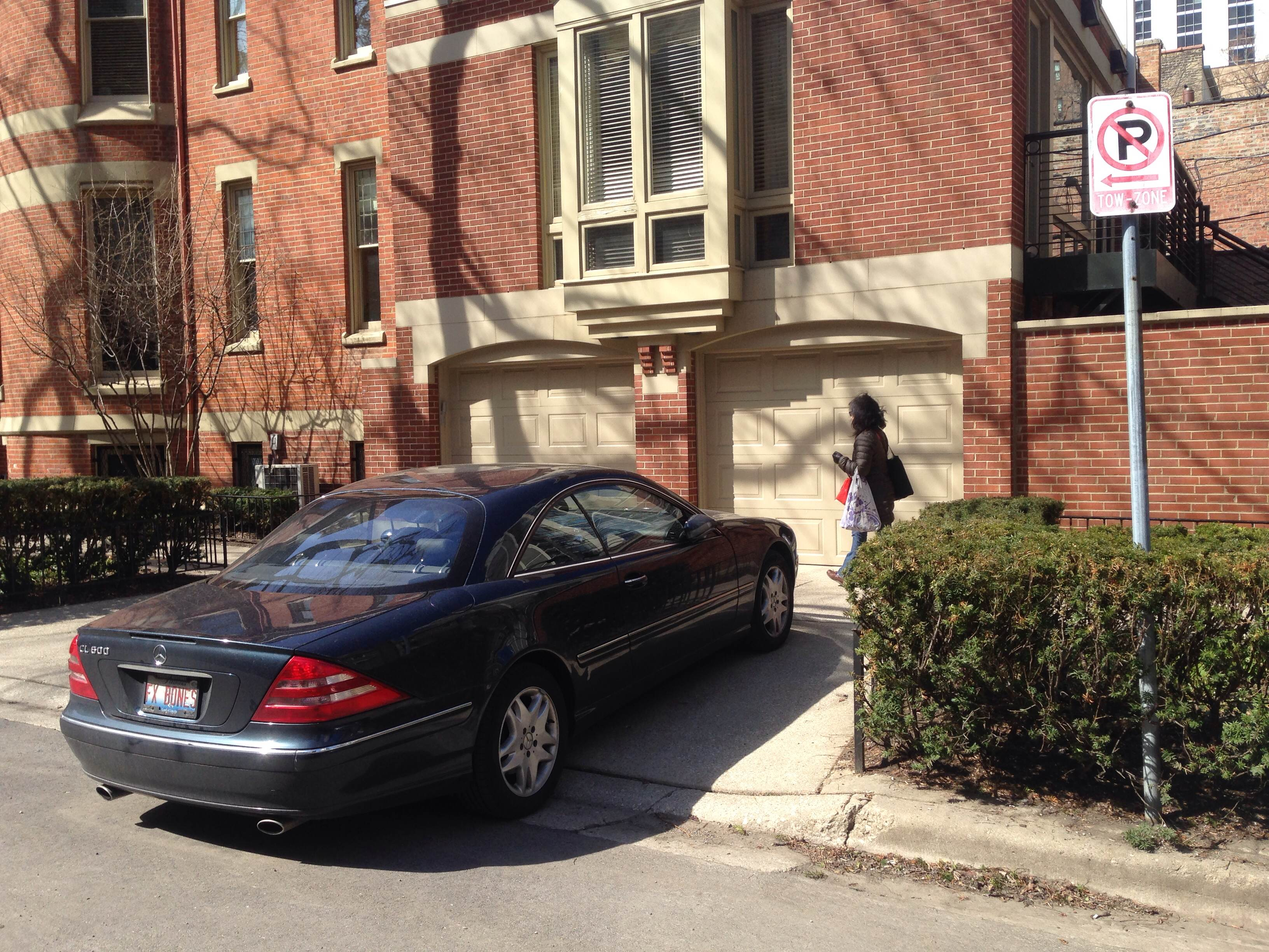Car: (46, 451, 806, 834)
Person: (823, 396, 913, 557)
